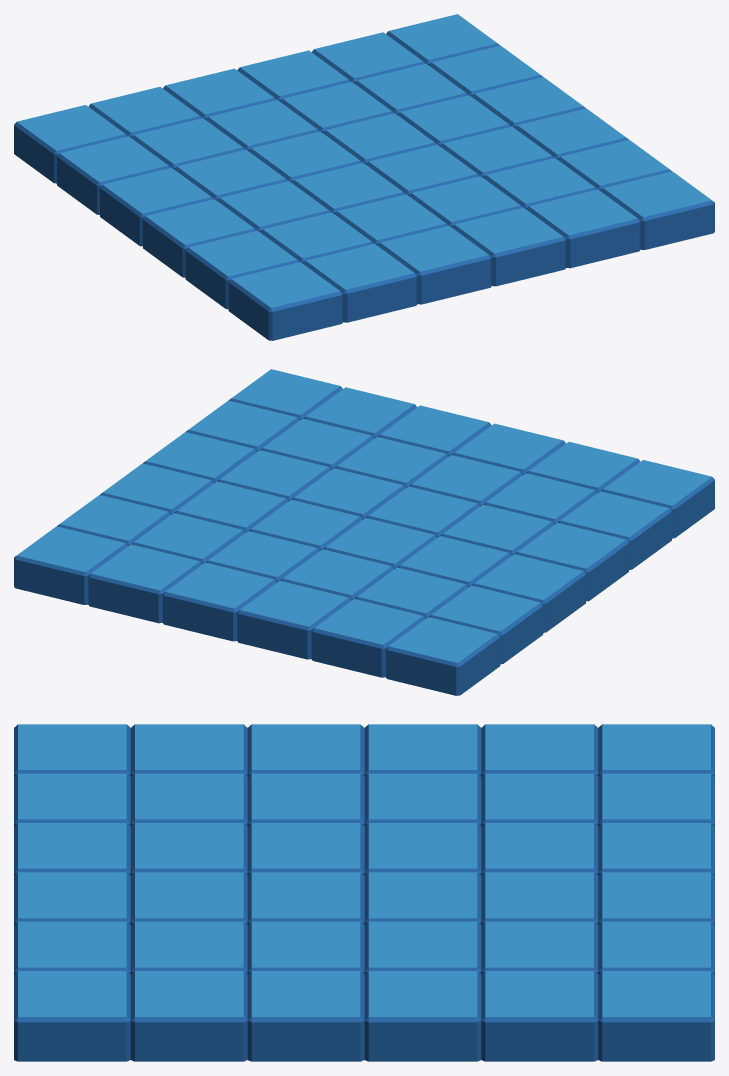
3 views of the same model, one above another, from view 1: azimuth 30°, elevation 25°; view 2: azimuth 150°, elevation 25°; view 3: azimuth 270°, elevation 25° (orthographic). The views are drawn at different scales.
Parts seen in each view (by area): view 1: pCube28; view 2: pCube28; view 3: pCube28.
Boxes of the visible parts, <box> form: pCube28: <box>14,14,714,340</box>; pCube28: <box>14,369,714,695</box>; pCube28: <box>14,724,714,1061</box>.
Bounding box in the file's own units: 6 × 0.4072 × 6.
